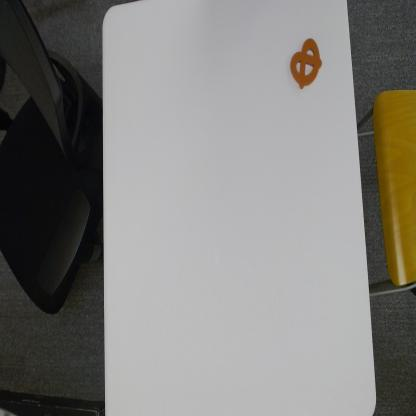Pretzel: (288, 35, 324, 91)
